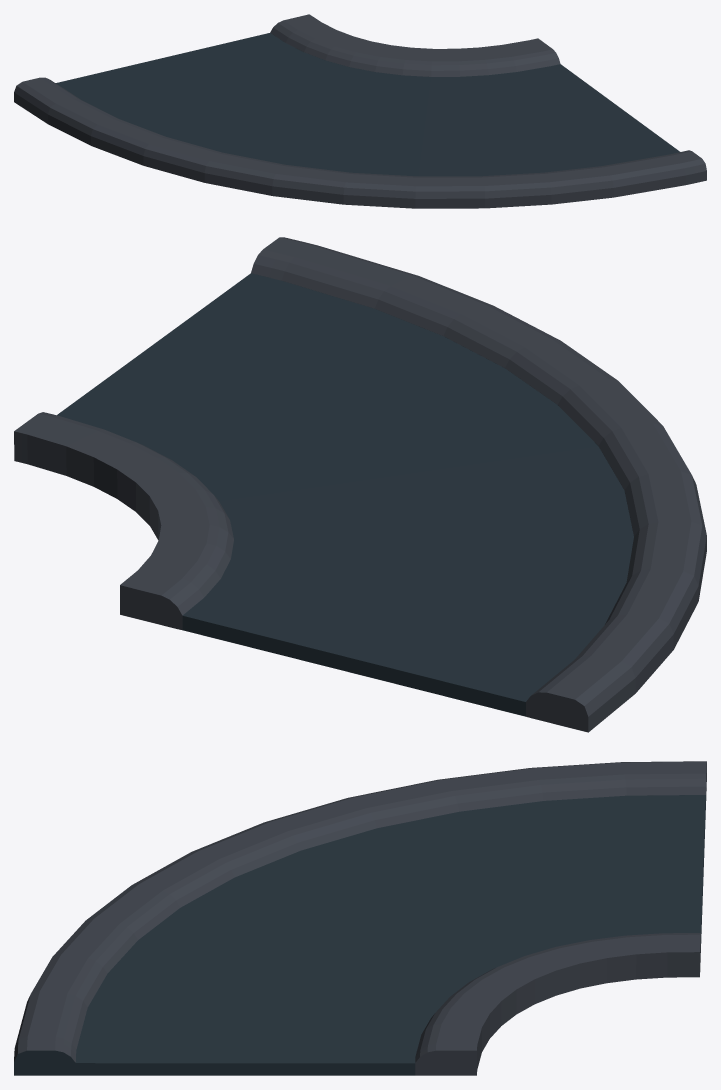
The model's file is TurnRight.fbx.
3 renders of one model, top to bottom at view 1: azimuth 30°, elevation 25°; view 2: azimuth 150°, elevation 25°; view 3: azimuth 270°, elevation 25°, orthographic. The views are drawn at different scales.
Visible parts, largest first — view 1: TurnRight; view 2: TurnRight; view 3: TurnRight.
Boxes of the visible parts, x1,y1,x2,y2 form: TurnRight: [14, 14, 706, 208]; TurnRight: [14, 237, 706, 732]; TurnRight: [14, 761, 706, 1075].
Size of the model in its own units: 300 by 13.47 by 299.
